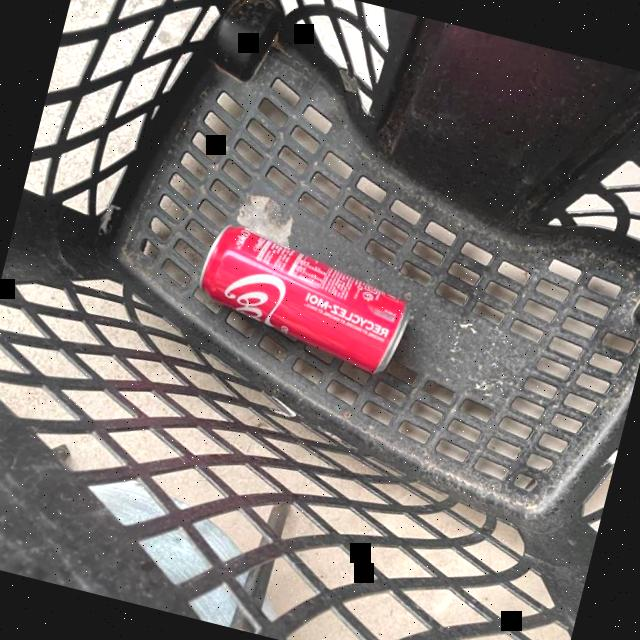can: (176, 208, 431, 402)
